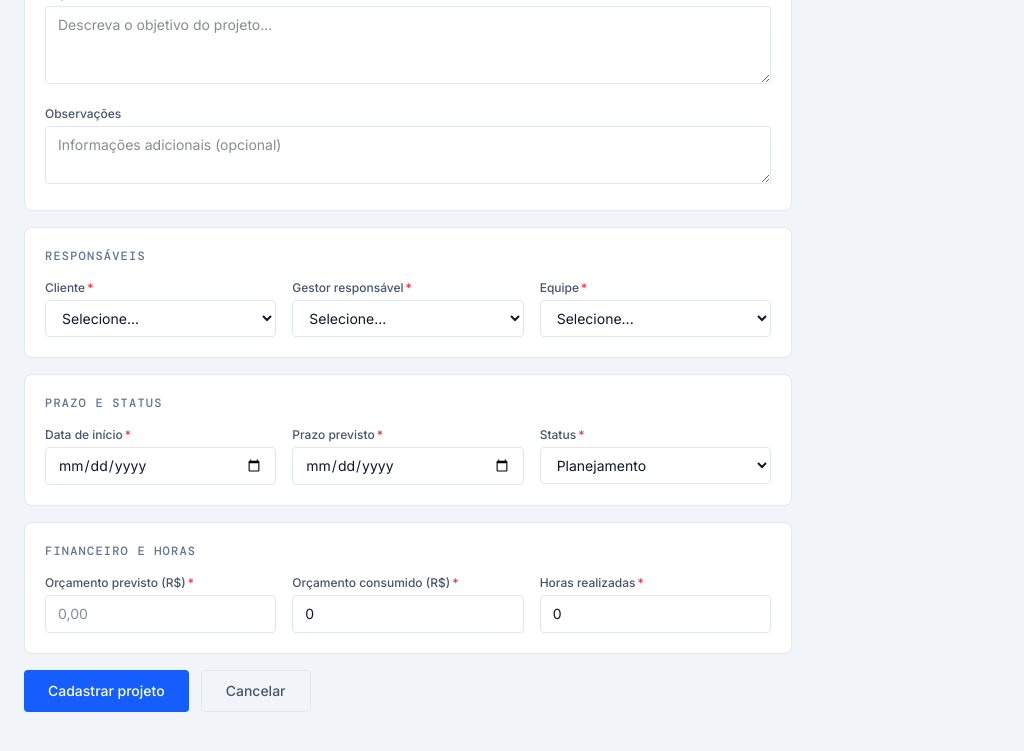
Test case: cadastro de projeto (RF03) › recusa o formulário vazio e aponta cada obrigatório (RN06)
(page scrolled)
Click the button "Cadastrar projeto".
click(106, 691)  # box [24,670,189,712]
(page scrolled)
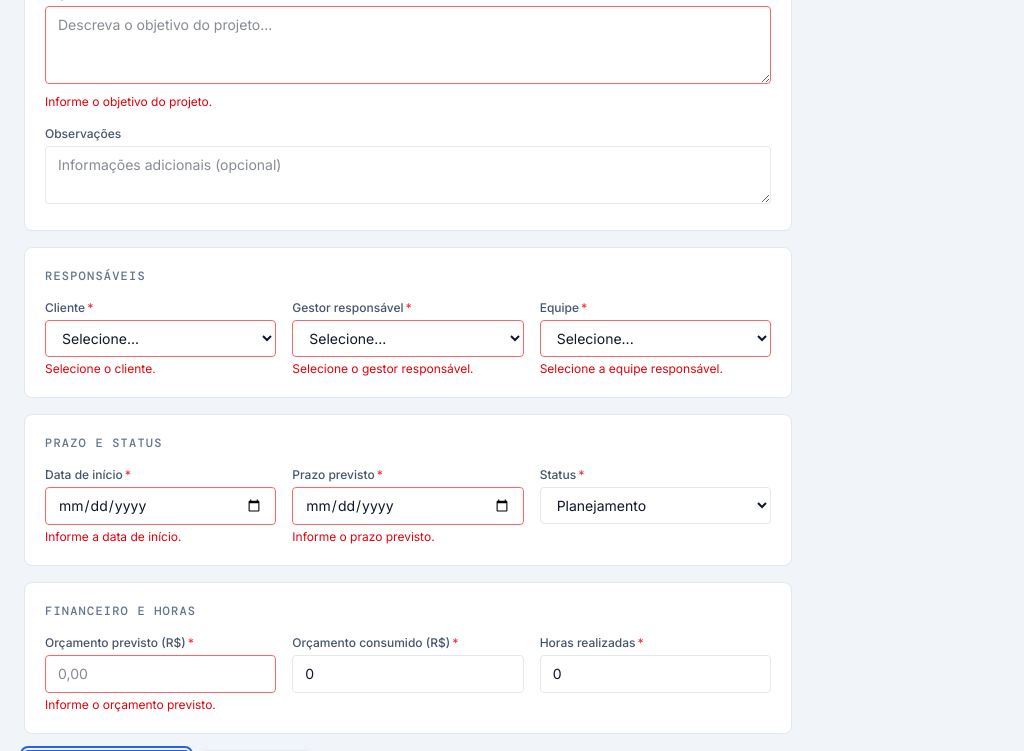
Expected: the text "Selecione o cliente." is shown, [45,361,156,376]
Expected: the text "Selecione o gestor responsável." is shown, [292,361,474,376]
Expected: the text "Selecione a equipe responsável." is shown, [540,361,723,376]
